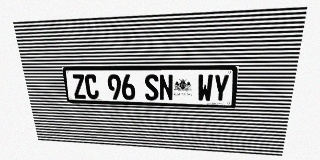6: (121, 74, 136, 100)
9: (107, 74, 122, 100)
C: (84, 74, 99, 99)
N: (159, 74, 173, 101)
S: (144, 74, 159, 101)
W: (197, 74, 213, 102)
Y: (212, 74, 230, 102)
Z: (71, 74, 87, 99)
